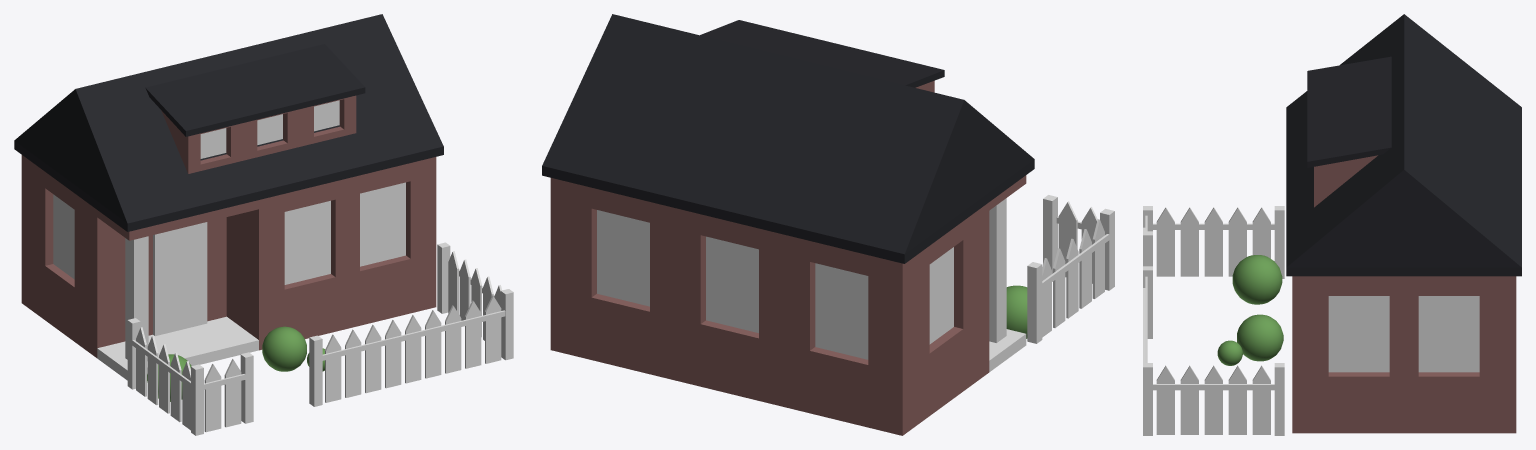
Rendered from house_01.fbx.
3 renders of one model, left to right at view 1: azimuth 30°, elevation 25°; view 2: azimuth 150°, elevation 25°; view 3: azimuth 270°, elevation 25°, orthographic. The views are drawn at different scales.
Visible parts, largest first — view 1: house_01; view 2: house_01; view 3: house_01.
Boxes of the visible parts, x1,y1,x2,y2 form: house_01: (14, 14, 513, 435); house_01: (542, 14, 1114, 435); house_01: (1143, 14, 1521, 435).
Size of the model in its own units: 397 by 395 by 317.
1 material, 1 textured.
